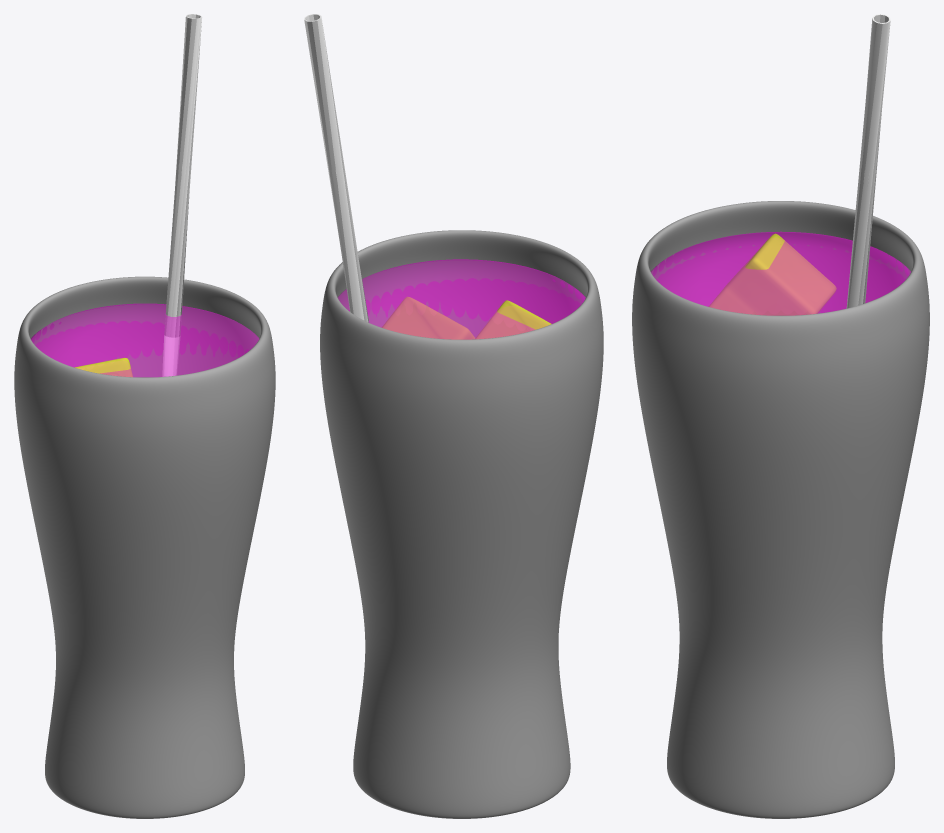
The model's file is 1773126978_cus.glb.
3 renders of one model, left to right at view 1: azimuth 30°, elevation 25°; view 2: azimuth 150°, elevation 25°; view 3: azimuth 270°, elevation 25°, orthographic. The views are drawn at different scales.
Visible parts, largest first — view 1: Cylinder, Cylinder.001, Cylinder.002, Cube.002; view 2: Cylinder, Cylinder.001, Cylinder.002, Cube.001, Cube.002; view 3: Cylinder, Cylinder.001, Cube.002, Cylinder.002.
Part boxes in pixels (left/top/right/bottom): Cylinder: left=14, top=276, right=275, bottom=818; Cylinder.001: left=31, top=303, right=259, bottom=377; Cylinder.002: left=162, top=14, right=202, bottom=376; Cube.002: left=74, top=357, right=132, bottom=376; Cylinder: left=320, top=230, right=603, bottom=818; Cylinder.001: left=337, top=259, right=585, bottom=339; Cylinder.002: left=304, top=14, right=369, bottom=322; Cube.001: left=382, top=297, right=474, bottom=339; Cube.002: left=475, top=300, right=551, bottom=338; Cylinder: left=632, top=201, right=929, bottom=818; Cylinder.001: left=651, top=231, right=910, bottom=315; Cube.002: left=709, top=233, right=836, bottom=315; Cylinder.002: left=846, top=14, right=890, bottom=308.
Bounding box in the file's own units: 255 × 764 × 255.
